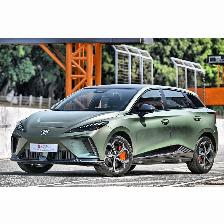EV: (10, 84, 218, 177)
